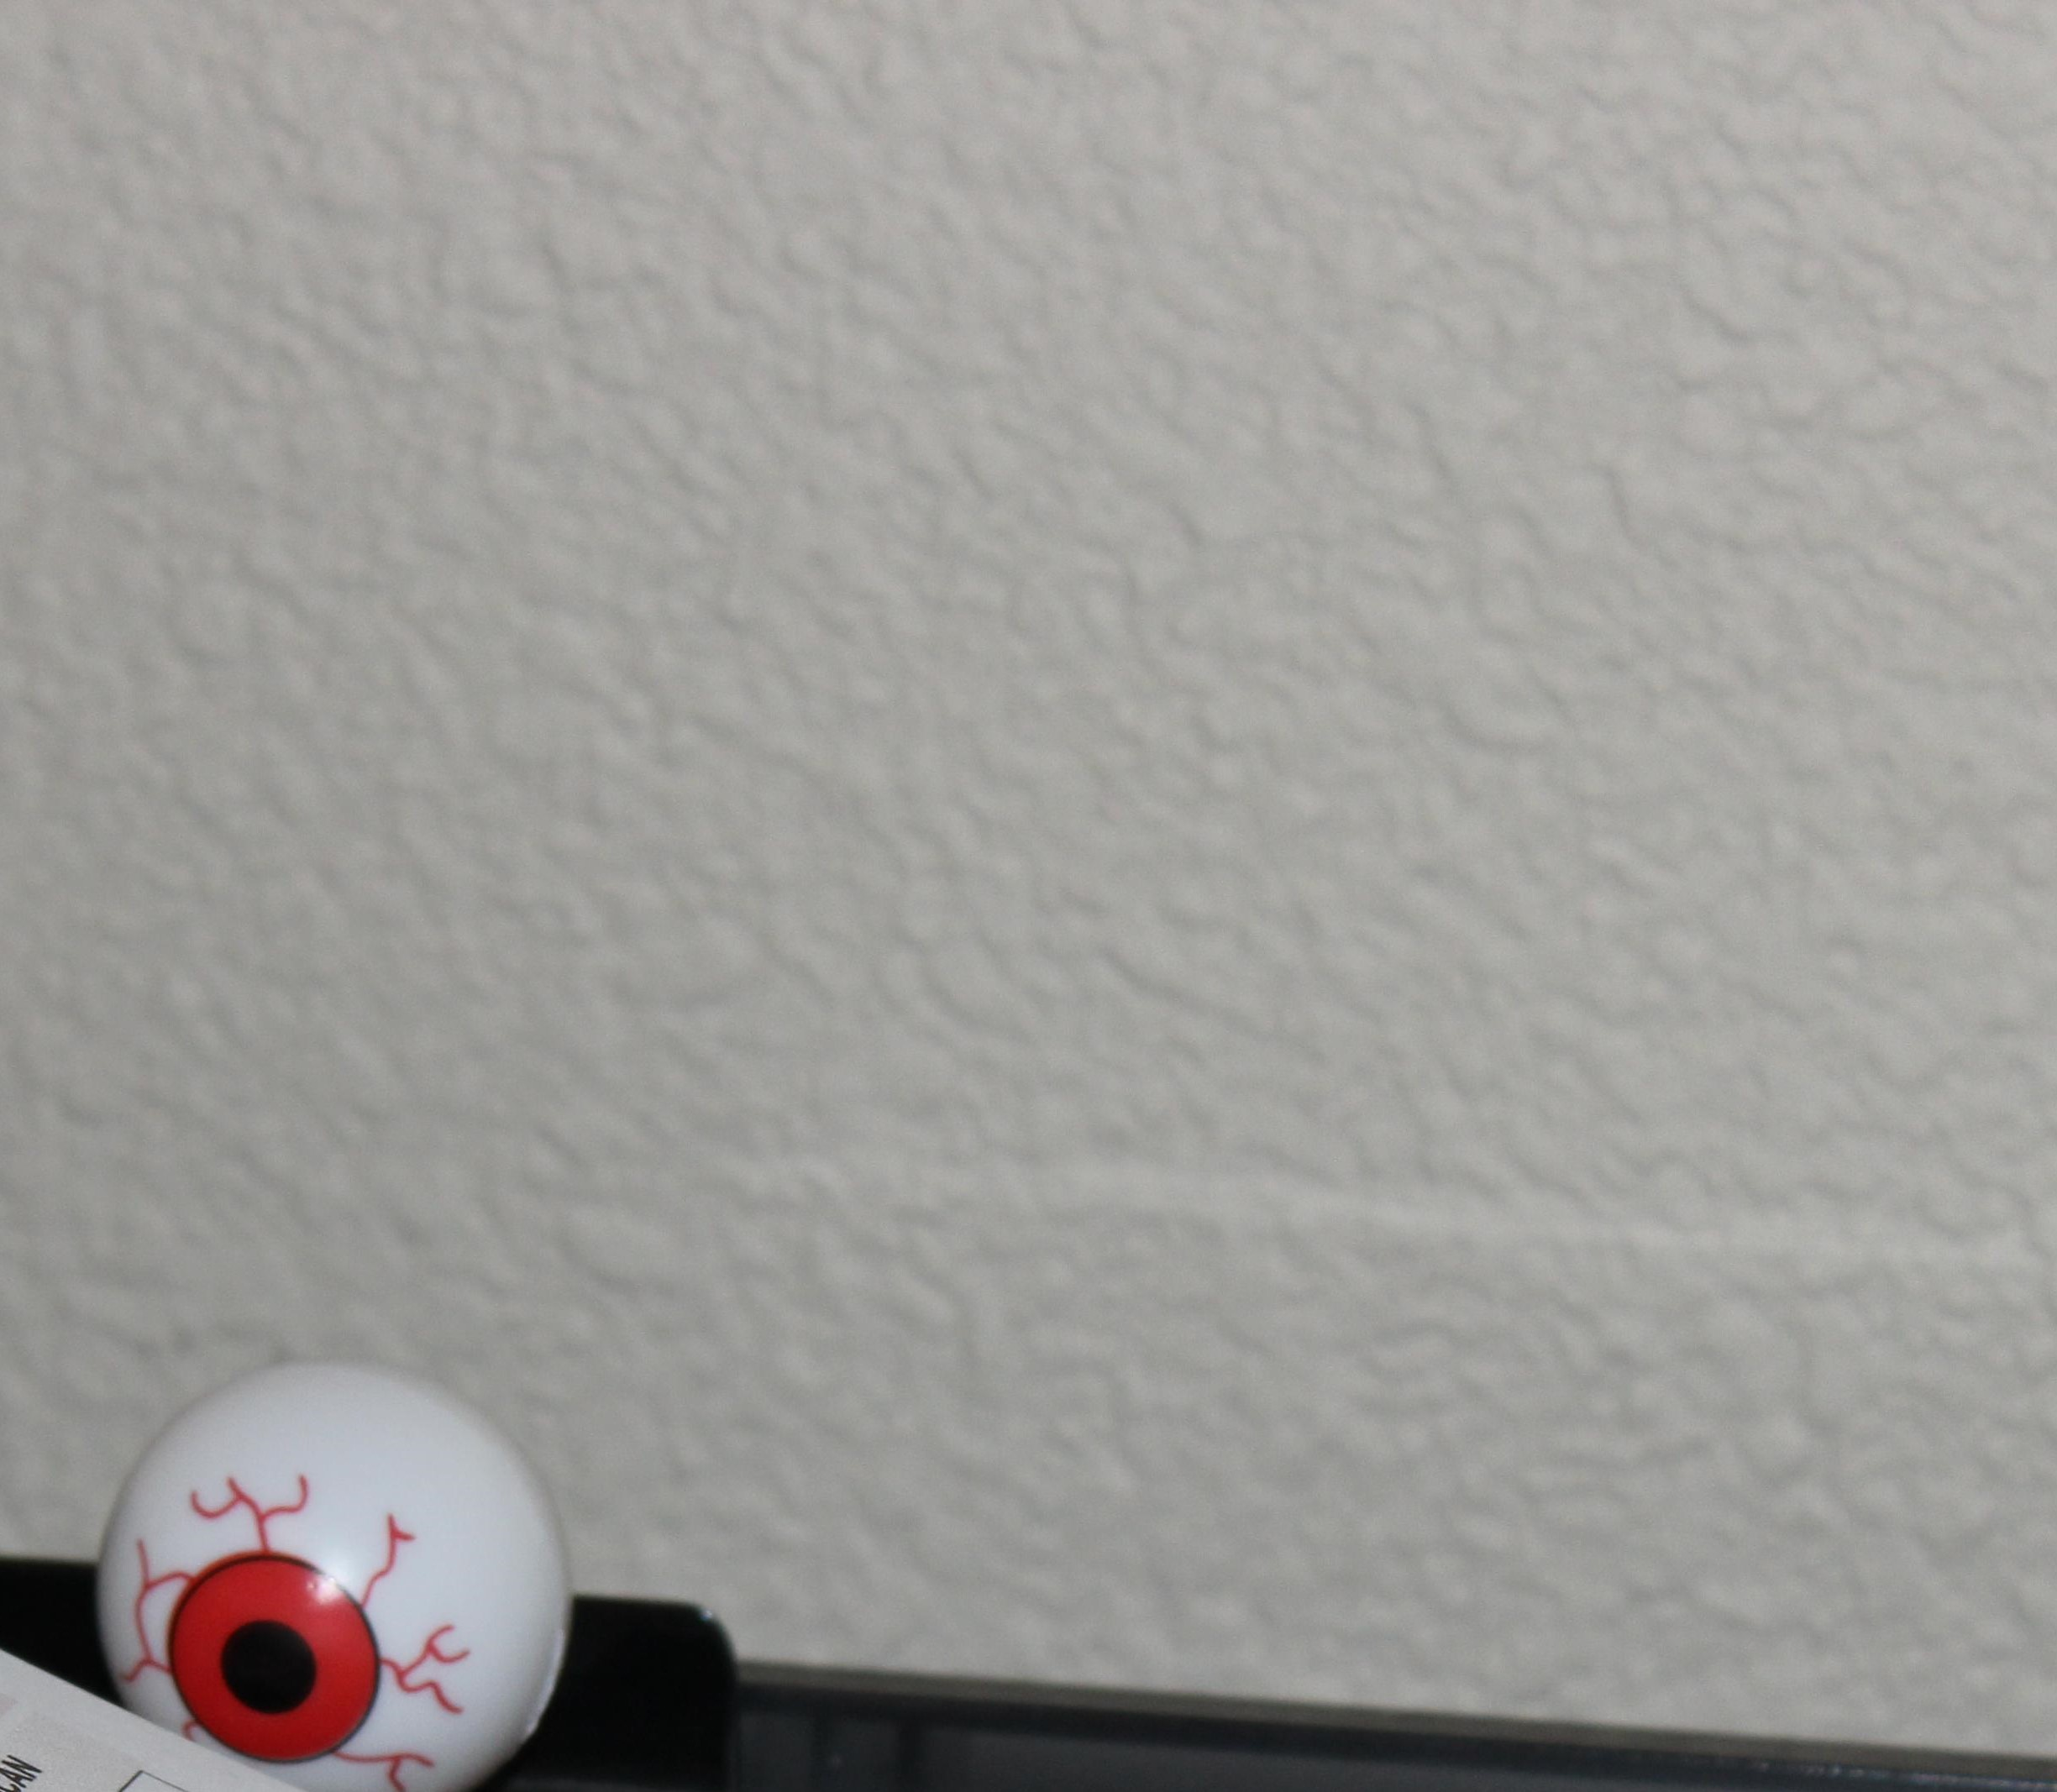eyeball: (66, 1330, 606, 1789)
